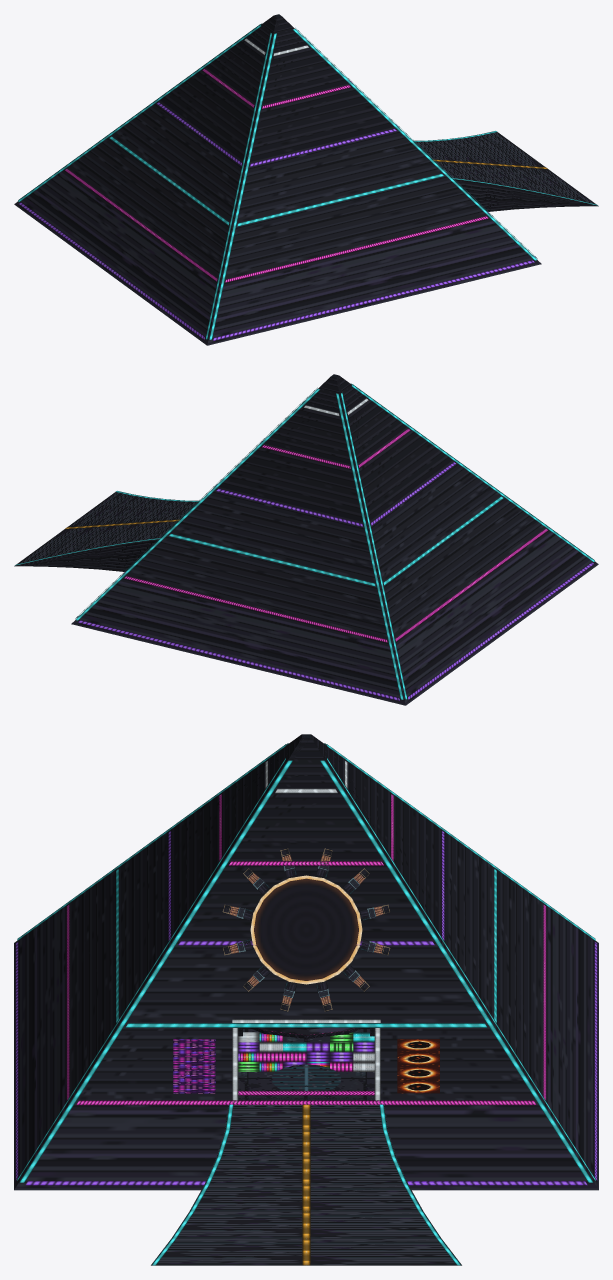
File: BlackSun.glb
3 views of the same model, one above another, from view 1: azimuth 30°, elevation 25°; view 2: azimuth 150°, elevation 25°; view 3: azimuth 270°, elevation 25° (orthographic). The views are drawn at different scales.
Parts seen in each view (by area): view 1: BlackSun; view 2: BlackSun; view 3: BlackSun.
Boxes of the visible parts, x1,y1,x2,y2 form: BlackSun: [14, 14, 598, 345]; BlackSun: [14, 374, 598, 705]; BlackSun: [14, 734, 598, 1265].
Bounding box in the file's own units: 78.32 × 37.4 × 60.
4 materials, 4 textured.
